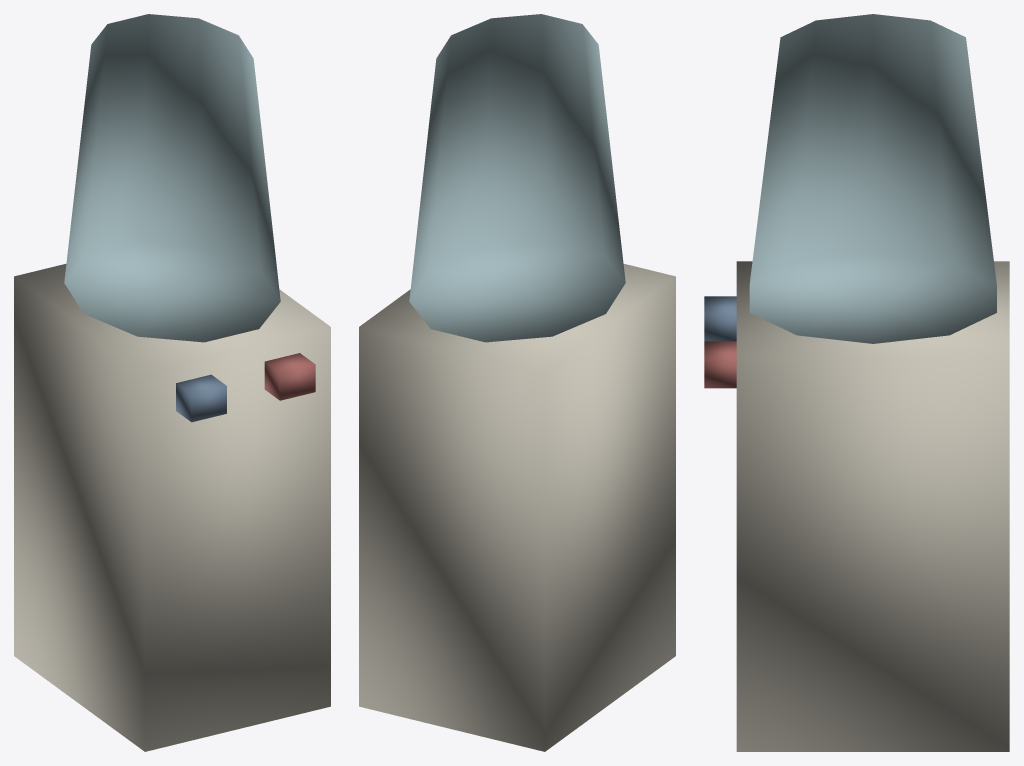
Rendered from water_cooler__deep.glb.
3 views of the same model, side by side, from view 1: azimuth 30°, elevation 25°; view 2: azimuth 150°, elevation 25°; view 3: azimuth 270°, elevation 25° (orthographic). The views are drawn at different scales.
Visible parts, largest first — view 1: world; view 2: world; view 3: world.
Part boxes in pixels (bbox=[...]): world: bbox=[14, 14, 330, 751]; world: bbox=[359, 14, 675, 751]; world: bbox=[704, 14, 1009, 751].
Size of the model in its own units: 0.42 by 1.36 by 0.5734.
